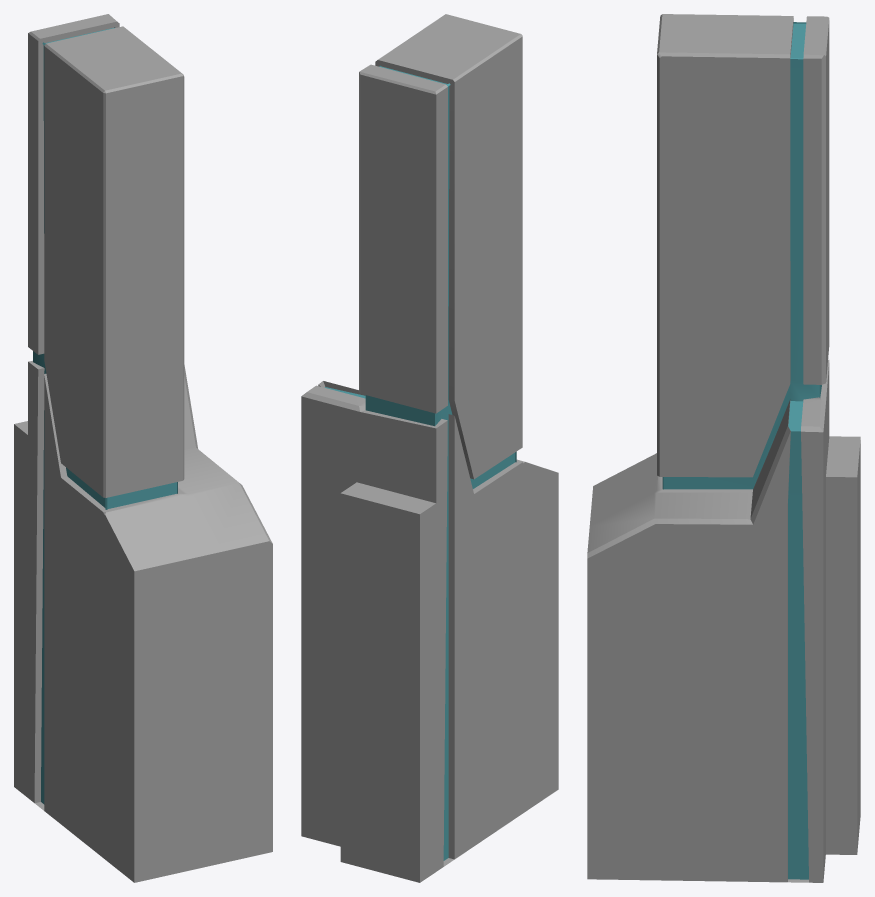
Rendered from bg_bulding_3.fbx.
3 renders of one model, left to right at view 1: azimuth 30°, elevation 25°; view 2: azimuth 150°, elevation 25°; view 3: azimuth 270°, elevation 25°, orthographic. The views are drawn at different scales.
Parts seen in each view (by area): view 1: pCube1; view 2: pCube1; view 3: pCube1.
Part boxes in pixels (bbox=[...]): pCube1: bbox=[14, 14, 272, 882]; pCube1: bbox=[301, 14, 558, 882]; pCube1: bbox=[587, 14, 860, 882].
Size of the model in its own units: 10.87 by 55.74 by 17.31.
